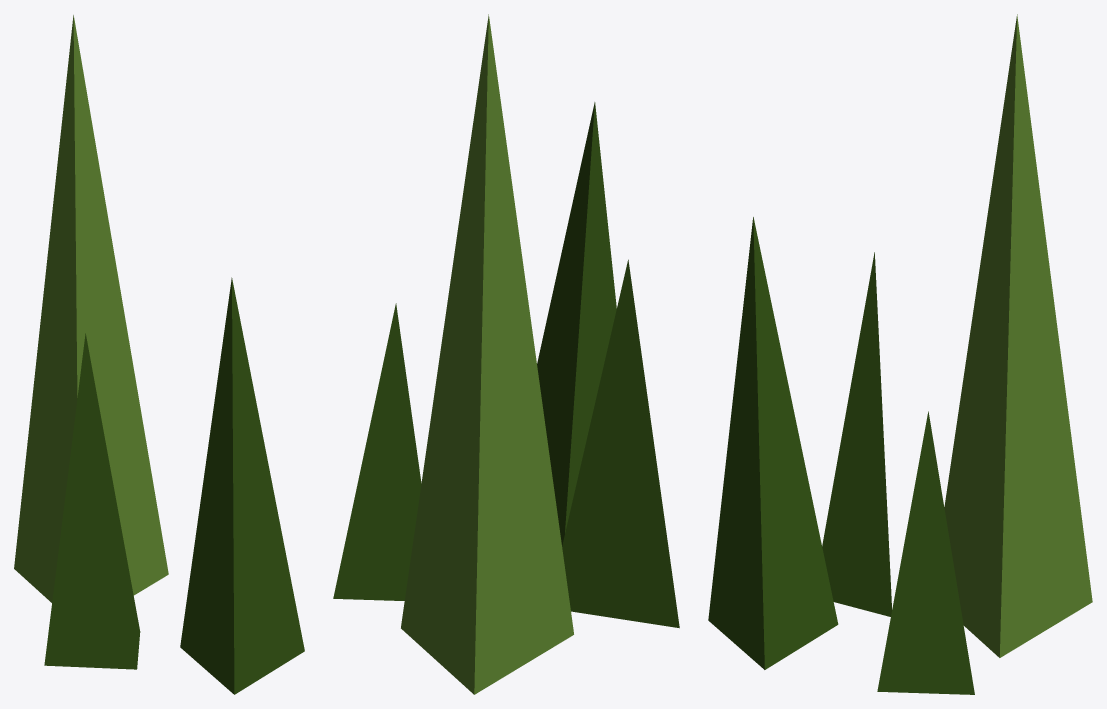
File: grass_1.glb
The picture shows the model from 3 angles, left to right: view 1: azimuth 30°, elevation 25°; view 2: azimuth 150°, elevation 25°; view 3: azimuth 270°, elevation 25°; orthographic projection. The views are drawn at different scales.
Parts seen in each view (by area): view 1: Pasto_02; view 2: Pasto_02; view 3: Pasto_02.
Boxes of the visible parts, x1,y1,x2,y2 form: Pasto_02: (14,15,304,694); Pasto_02: (333,14,679,694); Pasto_02: (708,14,1092,694).
Size of the model in its own units: 0.3599 by 0.7645 by 0.4439.
1 material, 1 textured.
